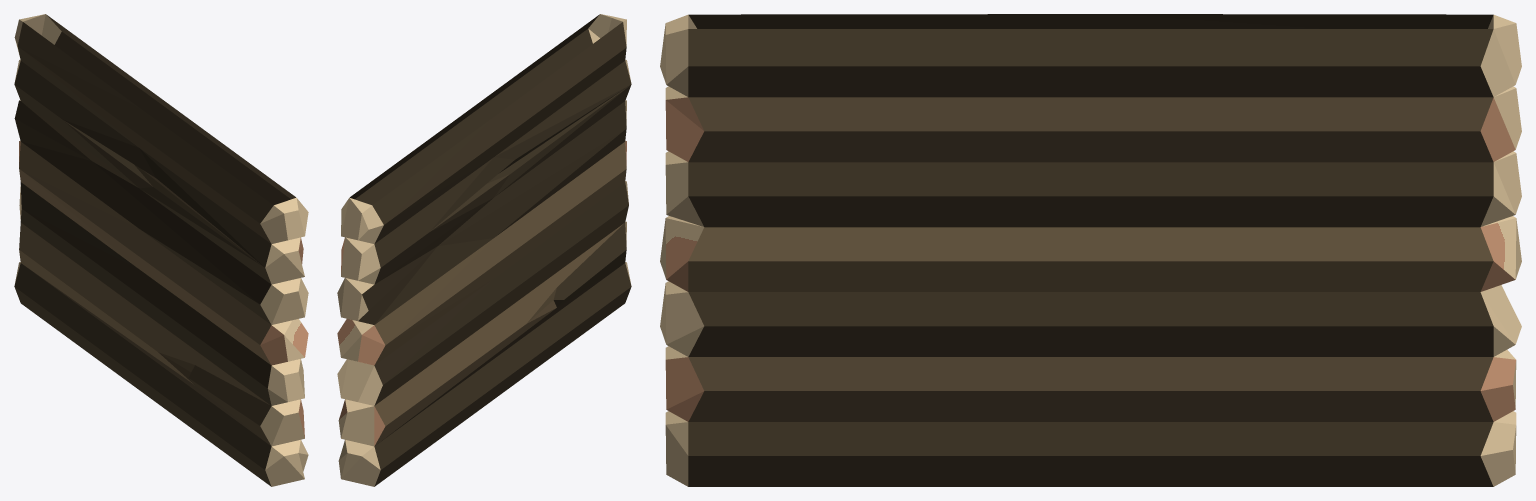
The model's file is EA03_Village_Hut_Wall_Front_02i.glb.
3 renders of one model, left to right at view 1: azimuth 30°, elevation 25°; view 2: azimuth 150°, elevation 25°; view 3: azimuth 270°, elevation 25°, orthographic. The views are drawn at different scales.
Visible parts, largest first — view 1: EA03_Village_Hut_Wall_Front_02i; view 2: EA03_Village_Hut_Wall_Front_02i; view 3: EA03_Village_Hut_Wall_Front_02i.
Boxes of the visible parts, x1,y1,x2,y2 form: EA03_Village_Hut_Wall_Front_02i: (14,14,308,486); EA03_Village_Hut_Wall_Front_02i: (337,14,631,486); EA03_Village_Hut_Wall_Front_02i: (660,14,1521,486).
Bounding box in the file's own units: 0.5469 × 3.09 × 5.31.
1 material, 1 textured.
